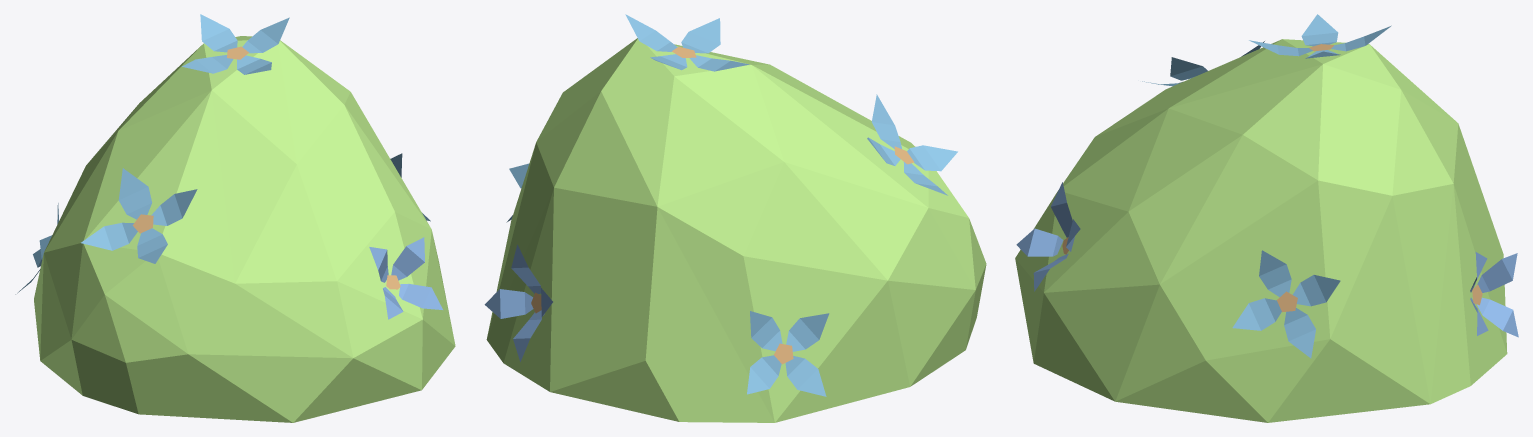
Rendered from FlowerBush_b_l_05.fbx.
3 renders of one model, left to right at view 1: azimuth 30°, elevation 25°; view 2: azimuth 150°, elevation 25°; view 3: azimuth 270°, elevation 25°, orthographic. The views are drawn at different scales.
Visible parts, largest first — view 1: FlowerBush_b_l_05; view 2: FlowerBush_b_l_05; view 3: FlowerBush_b_l_05.
Part boxes in pixels (x1=…): FlowerBush_b_l_05: x1=15, y1=14, x2=455, y2=422; FlowerBush_b_l_05: x1=484, y1=14, x2=986, y2=422; FlowerBush_b_l_05: x1=1015, y1=14, x2=1518, y2=422.
Size of the model in its own units: 239 by 167 by 245.
